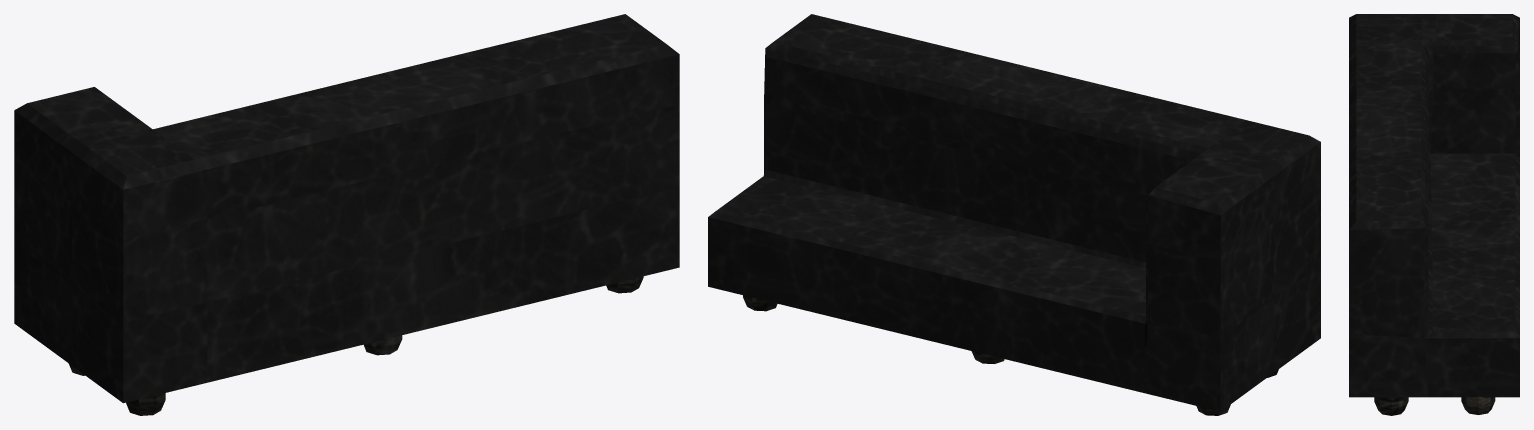
Rendered from Sofa_Bake.fbx.
3 renders of one model, left to right at view 1: azimuth 30°, elevation 25°; view 2: azimuth 150°, elevation 25°; view 3: azimuth 270°, elevation 25°, orthographic. The views are drawn at different scales.
Parts seen in each view (by area): view 1: Sofa_Bake; view 2: Sofa_Bake; view 3: Sofa_Bake.
Boxes of the visible parts, bbox=[...] form: Sofa_Bake: bbox=[14, 14, 679, 415]; Sofa_Bake: bbox=[708, 14, 1320, 415]; Sofa_Bake: bbox=[1349, 14, 1519, 415].
Size of the model in its own units: 100 by 295 by 128.
1 material, 1 textured.
